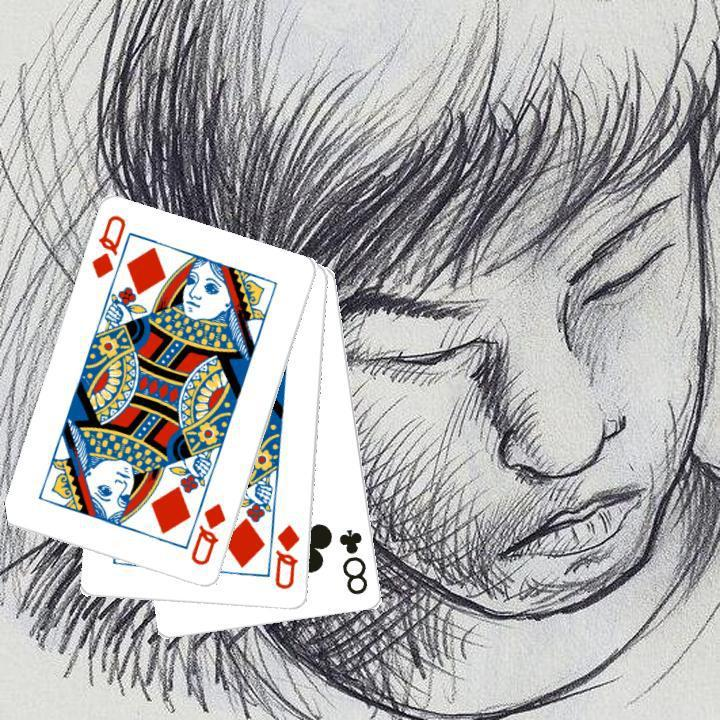8: (335, 525, 371, 597)
Q: (186, 499, 229, 568), (87, 211, 128, 281), (271, 521, 303, 592)
